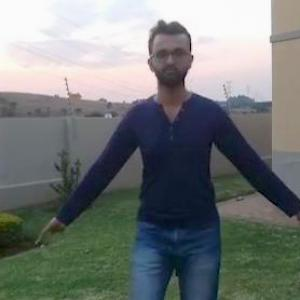land: (63, 39, 290, 299)
